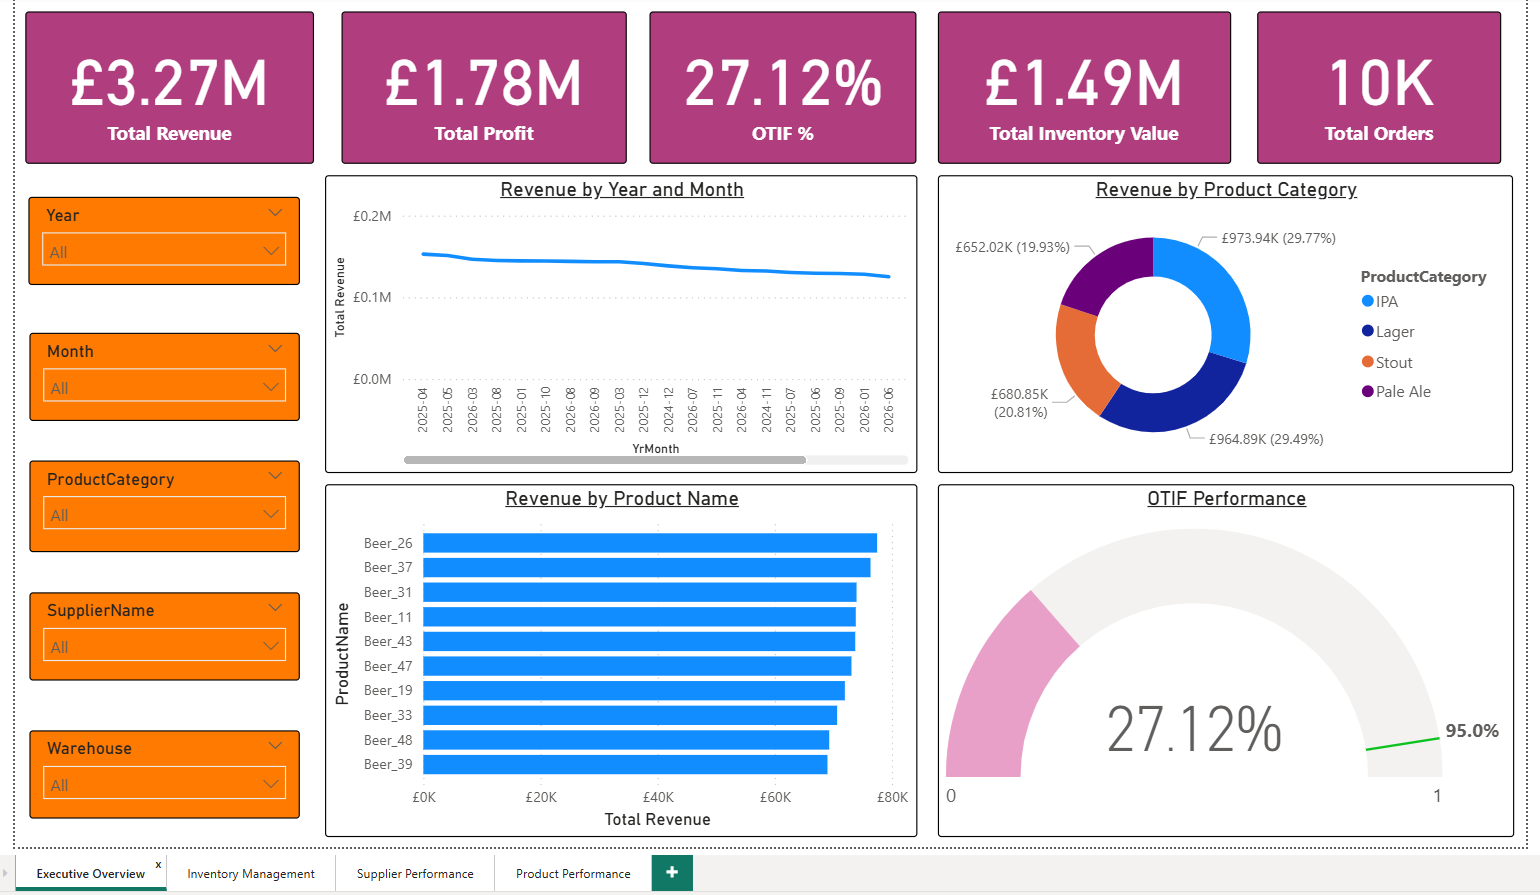

Layout of this report page (visuals, bound fields, positions):
{"tool":"powerbi","page":{"name":"Executive Overview","canvas":[1280,720],"ordinal":0},"visuals":[{"type":"card","fields":{"Values":["Measure.Total Revenue"]},"box":[9,12.5,244.5,129],"z":0},{"type":"card","fields":{"Values":["Measure.Total Profit"]},"box":[276.7,12.5,241.8,129],"z":1000},{"type":"card","fields":{"Values":["Measure.OTIF %"]},"box":[537.4,12.5,226.6,129],"z":2000},{"type":"card","fields":{"Values":["Measure.Total Inventory Value"]},"box":[781.9,12.5,248.1,129],"z":3000},{"type":"card","fields":{"Values":["Measure.Total Orders"]},"box":[1052.3,12.5,206.9,129],"z":4000},{"type":"lineChart","title":"Revenue by Year and Month","fields":{"Category":["DimDate.YrMonth"],"Y":["Measure.Total Revenue"]},"box":[262.4,151.4,501.5,252.6],"z":5000},{"type":"donutChart","title":"Revenue by Product Category","fields":{"Y":["Measure.Total Revenue"],"Category":["Dimproduct.ProductCategory"]},"box":[781.9,151.4,487.2,252.6],"z":6000},{"type":"clusteredBarChart","title":"Revenue by Product Name","fields":{"Y":["Measure.Total Revenue"],"Category":["Dimproduct.ProductName"]},"box":[262.4,412.9,501.5,299.1],"z":7000},{"type":"gauge","title":"OTIF Performance","fields":{"Y":["Measure.OTIF %"],"MaxValue":["Measure.OTIF Max"],"MinValue":["Measure.OTIF Min"],"TargetValue":["Measure.OTIF Target"]},"box":[781.9,412.9,488.1,299.1],"z":8000},{"type":"slicer","fields":{"Values":["DimDate.Year"]},"box":[11.6,169.3,230.2,75.2],"z":9000},{"type":"slicer","fields":{"Values":["DimDate.Month"]},"box":[12.5,284.8,229.3,75.2],"z":10000},{"type":"slicer","fields":{"Values":["Dimproduct.ProductCategory"]},"box":[12.5,393.2,229.3,77.9],"z":11000},{"type":"slicer","fields":{"Values":["DimSupplier.SupplierName"]},"box":[12.5,504.2,229.3,75.2],"z":12000},{"type":"slicer","fields":{"Values":["FactInventory.Warehouse"]},"box":[12.5,621.6,229.3,75.2],"z":13000}]}

Visuals, with their boxes in screenshot pixels (x1, y1, x2, y2):
card - Measure.Total Revenue: locate(19, 7, 309, 160)
card - Measure.Total Profit: locate(336, 7, 623, 160)
card - Measure.OTIF %: locate(646, 7, 914, 160)
card - Measure.Total Inventory Value: locate(936, 7, 1230, 160)
card - Measure.Total Orders: locate(1257, 7, 1502, 160)
"Revenue by Year and Month" lineChart: locate(319, 172, 914, 471)
"Revenue by Product Category" donutChart: locate(936, 172, 1514, 471)
"Revenue by Product Name" clusteredBarChart: locate(319, 482, 914, 837)
"OTIF Performance" gauge: locate(936, 482, 1515, 837)
slicer - DimDate.Year: locate(22, 193, 295, 282)
slicer - DimDate.Month: locate(23, 330, 295, 419)
slicer - Dimproduct.ProductCategory: locate(23, 459, 295, 551)
slicer - DimSupplier.SupplierName: locate(23, 590, 295, 679)
slicer - FactInventory.Warehouse: locate(23, 730, 295, 819)
